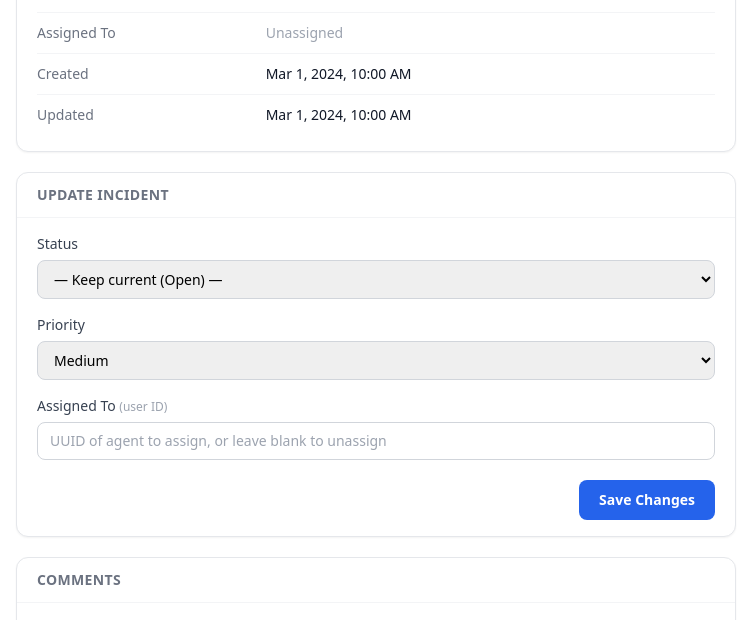
Test: IncidentDetailPage › shows success banner after a successful update
(page scrolled)
Select "Critical" in the dropdown labelled "Priority" at x=376, y=360, box x1=37 y1=341 x2=715 y2=380
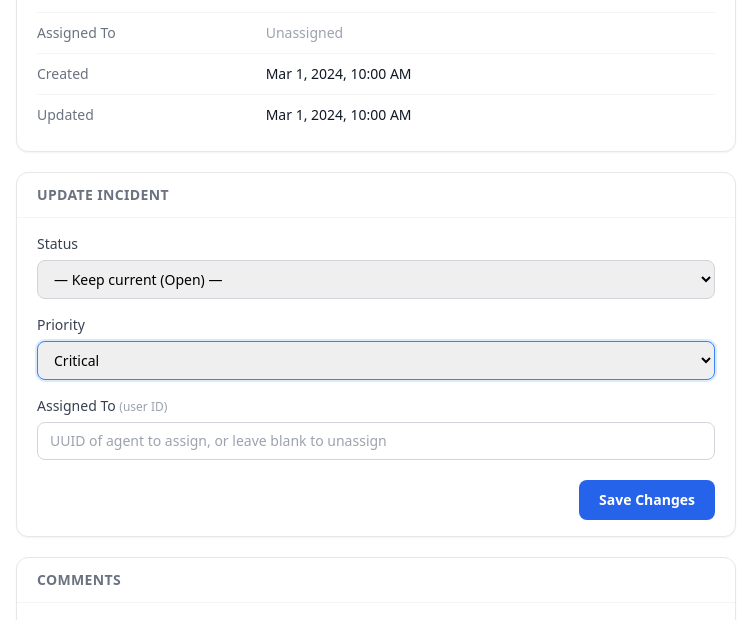
Click the button "Save Changes" at x=647, y=500, box x1=579 y1=480 x2=715 y2=520
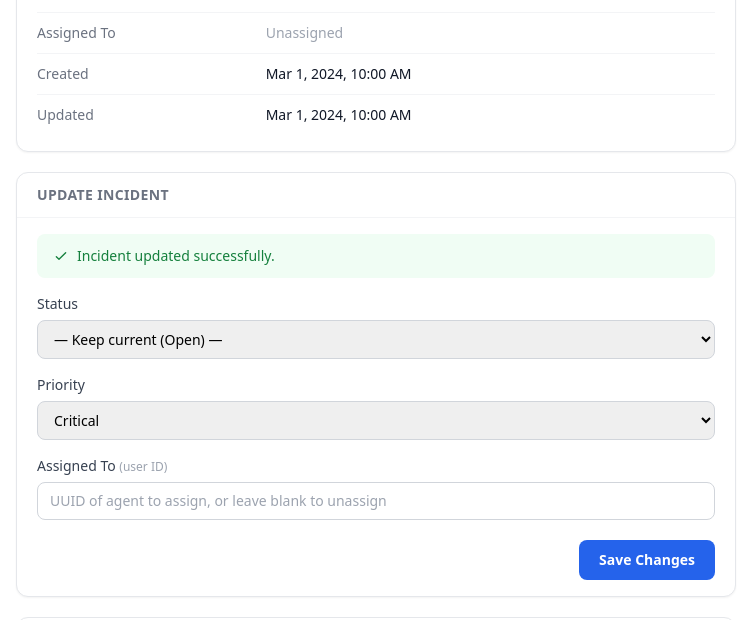
Expected: the message "Incident updated successfully." is shown, x1=37 y1=234 x2=715 y2=278
Expected: the message shows "updated successfully", x1=77 y1=246 x2=275 y2=265
